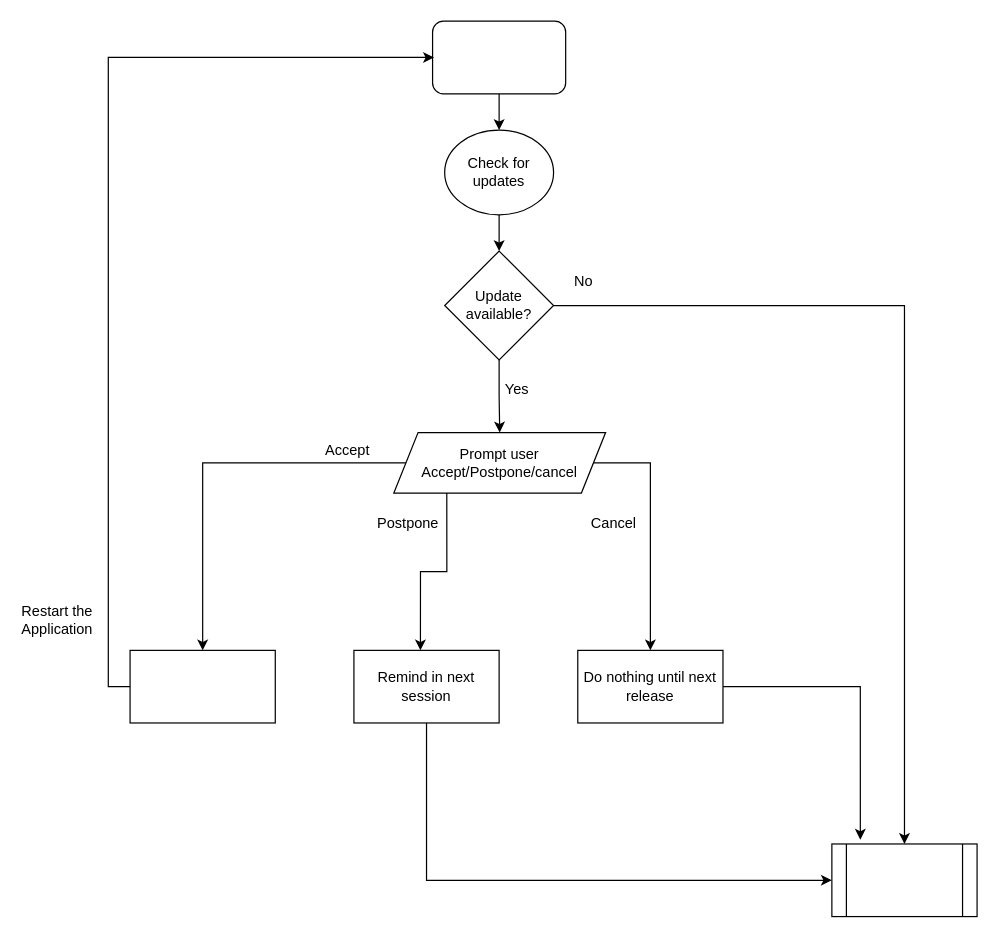
This 998x938 diagram has some shape labels left out. The centre of each missing label's shape, as x and y in pixels:
"Application start" goes at point (498, 57).
"Normal Operation" goes at point (904, 880).
"Verifies and Installs the update" goes at point (202, 686).
